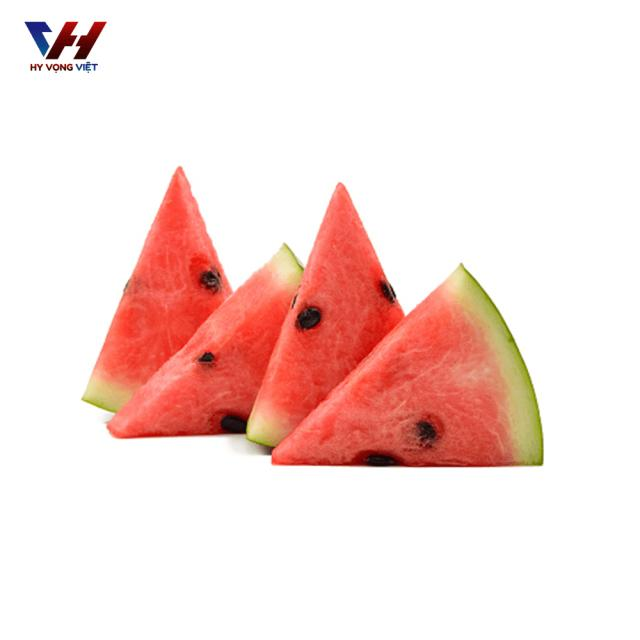dua hau: (273, 265, 543, 466), (247, 184, 403, 446), (108, 245, 302, 437), (83, 167, 231, 410)
